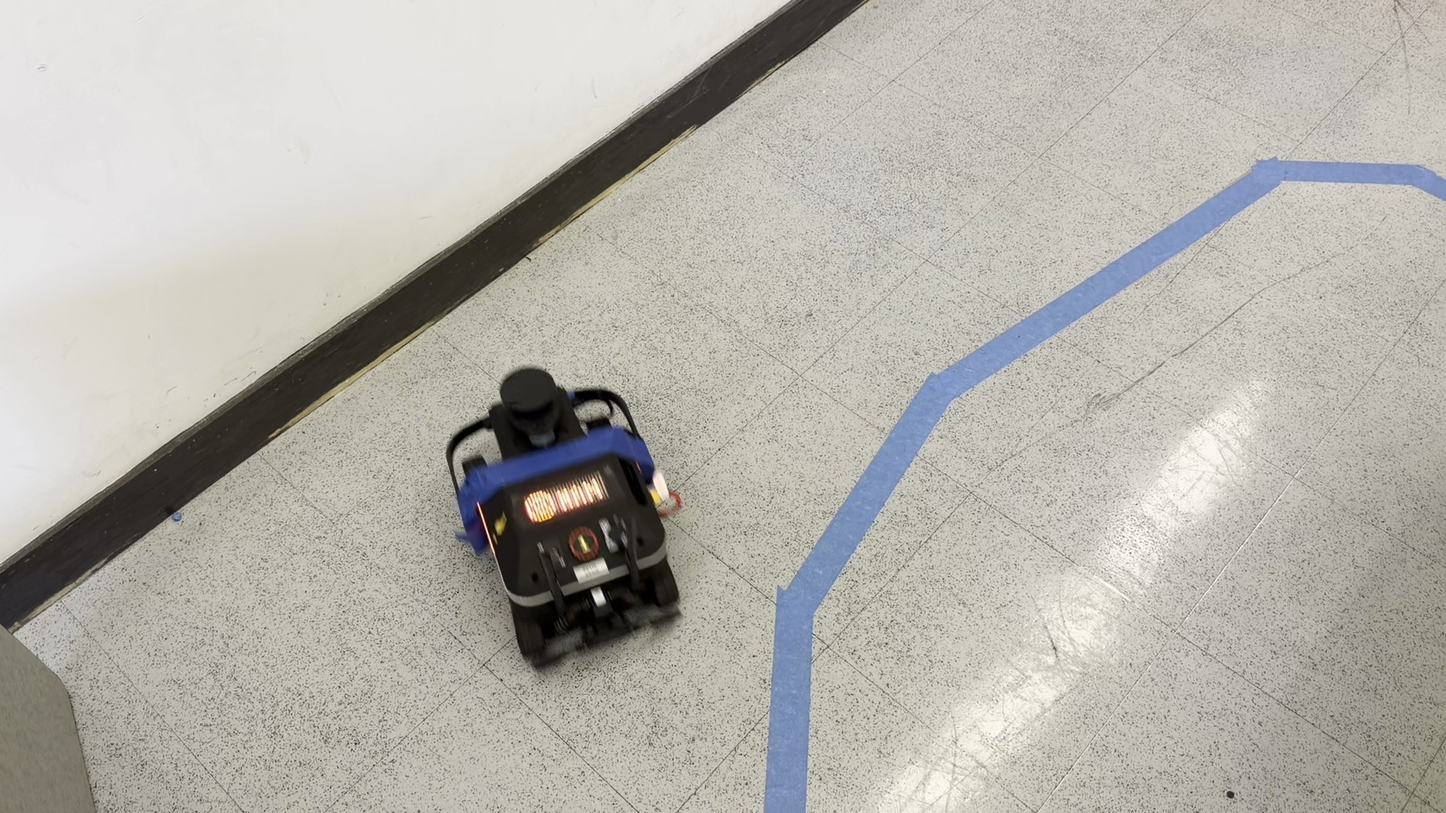racecar: (449, 368, 681, 670)
